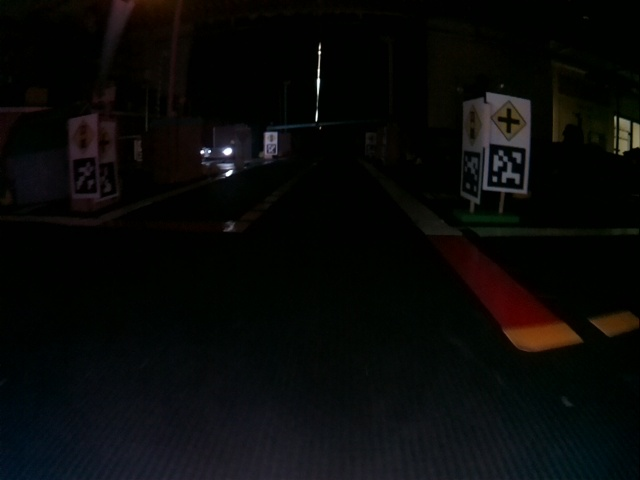Intersection sign: (498, 99, 530, 140)
QR code: (487, 143, 526, 190), (461, 150, 482, 200), (72, 158, 95, 194), (99, 160, 119, 199), (266, 145, 276, 154)
Signal sign: (462, 105, 484, 142), (72, 120, 94, 152), (265, 133, 275, 142)
